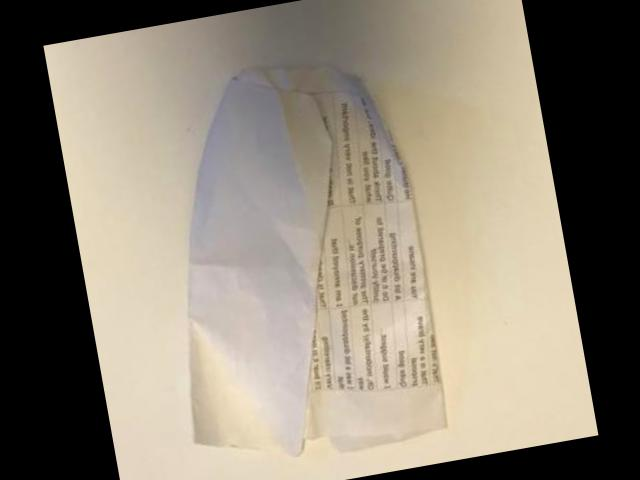cardboard paper: (190, 68, 446, 455)
